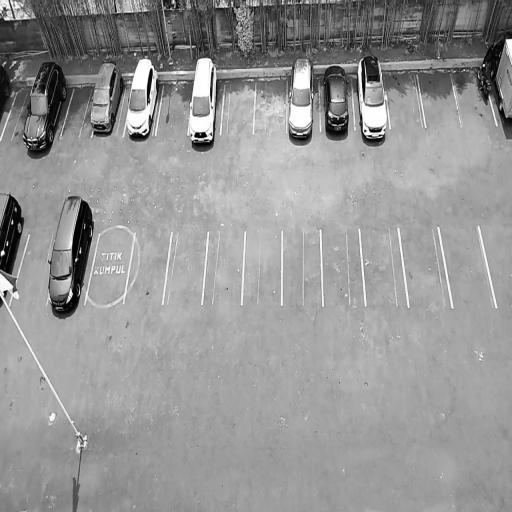Car: (42, 193, 95, 318), (20, 56, 69, 156), (122, 59, 164, 148), (352, 52, 389, 149), (0, 190, 28, 313), (86, 62, 128, 143), (188, 57, 220, 151), (322, 66, 356, 145), (287, 57, 316, 148), (488, 31, 512, 129), (0, 61, 14, 122)
Space Available: (395, 215, 459, 336), (438, 215, 502, 332), (361, 216, 417, 340), (81, 206, 135, 322), (118, 212, 171, 326), (320, 213, 364, 337), (5, 214, 58, 312), (164, 209, 207, 328), (245, 212, 284, 342), (284, 212, 322, 336), (207, 208, 242, 332), (418, 67, 464, 138), (450, 67, 498, 132), (250, 75, 290, 149), (382, 70, 426, 137), (150, 78, 192, 148), (220, 76, 256, 149), (60, 80, 96, 142), (1, 83, 36, 143)
